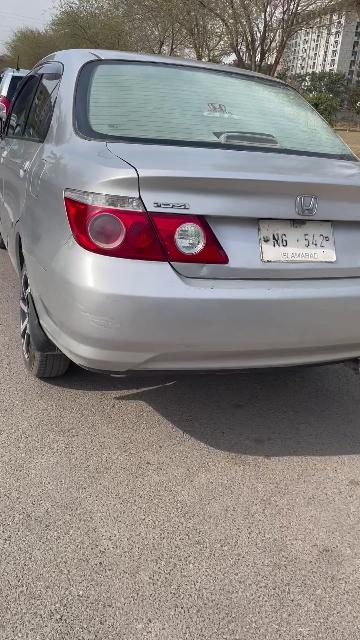plate: (259, 220, 337, 264)
